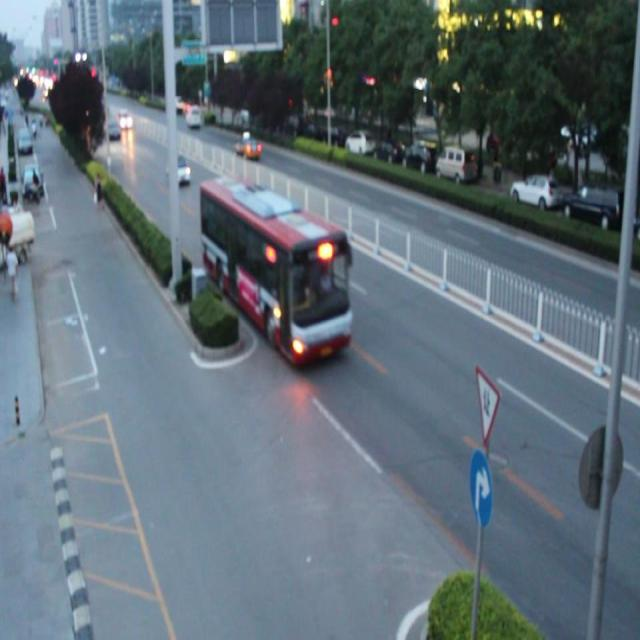car: (165, 154, 190, 186), (233, 133, 258, 159)
van: (199, 174, 349, 366)
